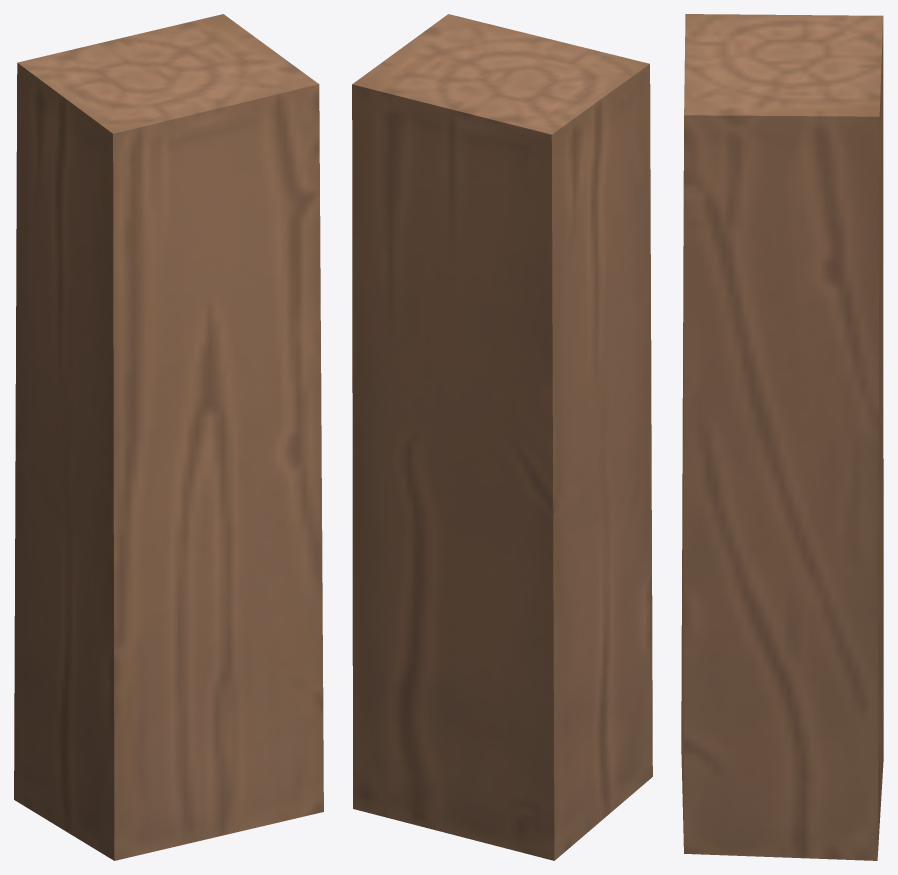
Rendered from Pfb_WoodBoards.fbx.
3 views of the same model, side by side, from view 1: azimuth 30°, elevation 25°; view 2: azimuth 150°, elevation 25°; view 3: azimuth 270°, elevation 25° (orthographic). The views are drawn at different scales.
Parts seen in each view (by area): view 1: Mat_WoodBoards_01; view 2: Mat_WoodBoards_01; view 3: Mat_WoodBoards_01.
Boxes of the visible parts, <box> form: Mat_WoodBoards_01: <box>14,14,323,860</box>; Mat_WoodBoards_01: <box>352,14,652,860</box>; Mat_WoodBoards_01: <box>681,14,883,860</box>.
Size of the model in its own units: 0.2829 by 0.9444 by 0.2325.
Materials: 1 (1 with a texture image).
